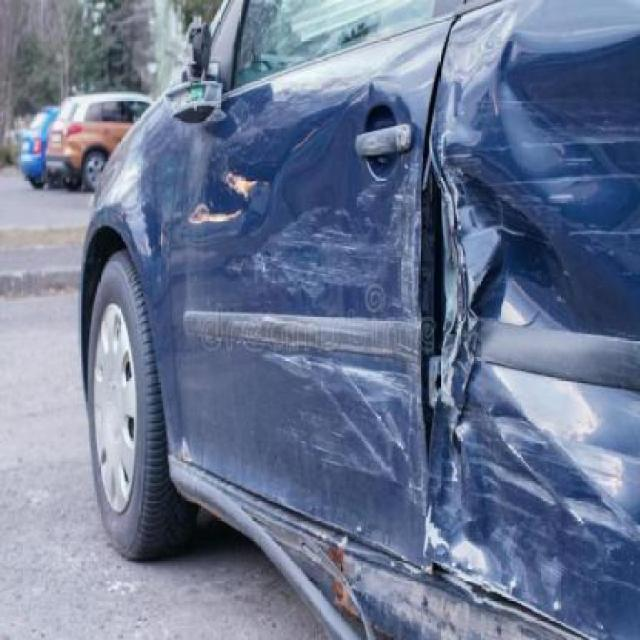RunningBoard-Dent: (332, 560, 593, 639)
